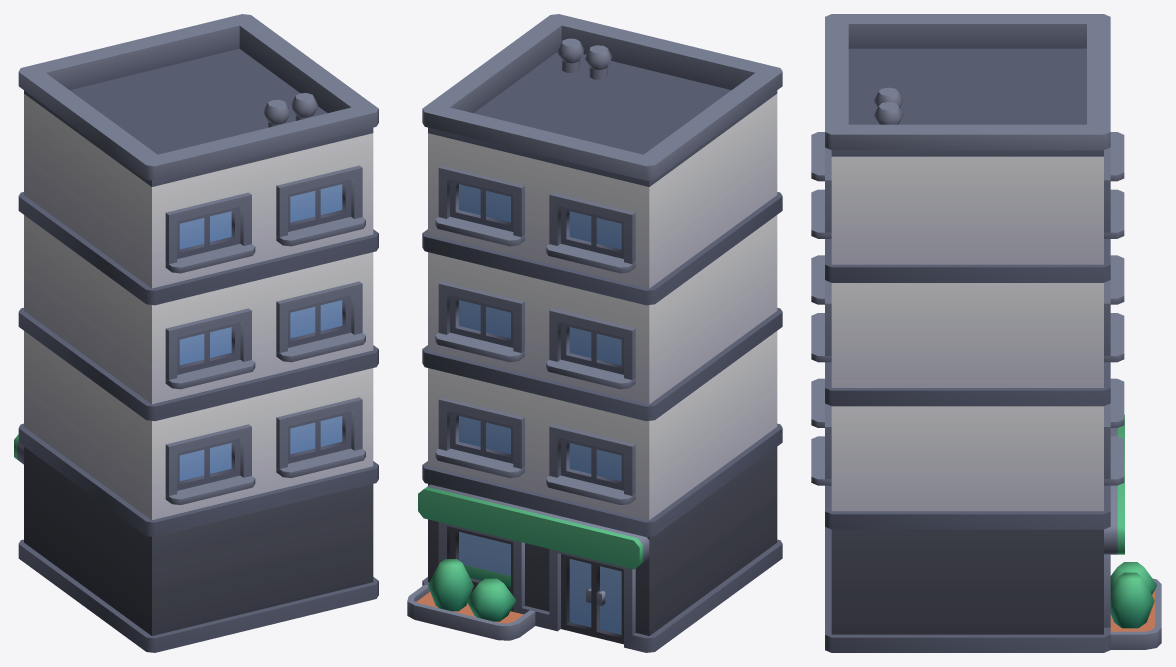
File: kenney-city-commercial-building-f.glb
3 views of the same model, side by side, from view 1: azimuth 30°, elevation 25°; view 2: azimuth 150°, elevation 25°; view 3: azimuth 270°, elevation 25° (orthographic). The views are drawn at different scales.
Visible parts, largest first — view 1: building-f; view 2: building-f; view 3: building-f.
Boxes of the visible parts, box(x1,y1,x2,y2) form: building-f: box(14, 14, 378, 652); building-f: box(407, 14, 782, 652); building-f: box(811, 14, 1161, 652).
Bounding box in the file's own units: 0.84 × 1.69 × 1.03.
Materials: 1 (1 with a texture image).
